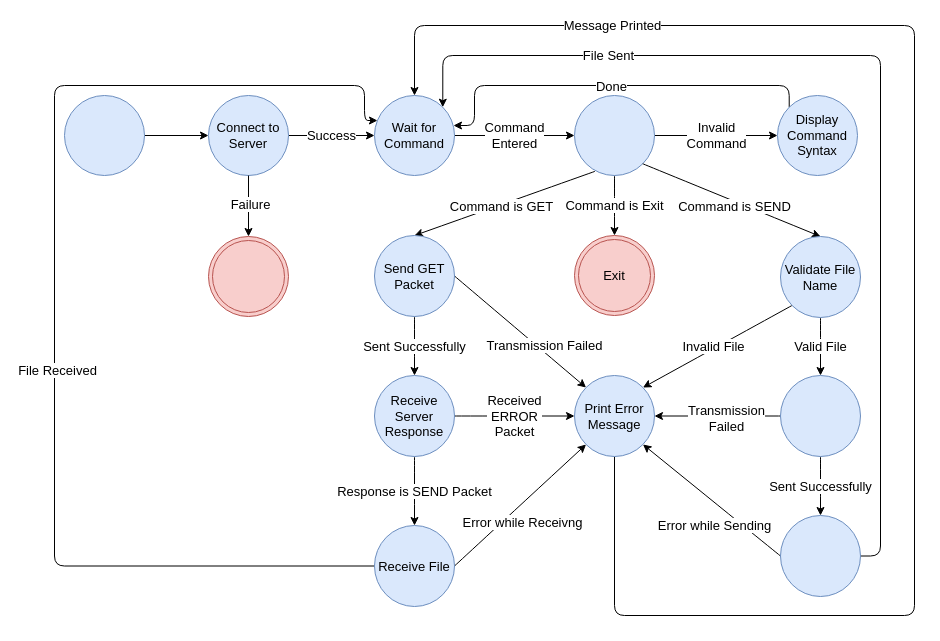
Some shapes in this 940 by 641 pixel diagram are drawn without their labels. The centre of each missing label's shape, as x and y in pixels:
"Parse Command" goes at point 614,135.
"Report Error and Exit" goes at point 248,276.
"Send File" goes at point 820,555.
"Send SEND Packet" goes at point 820,415.
"Start" goes at point 104,135.
